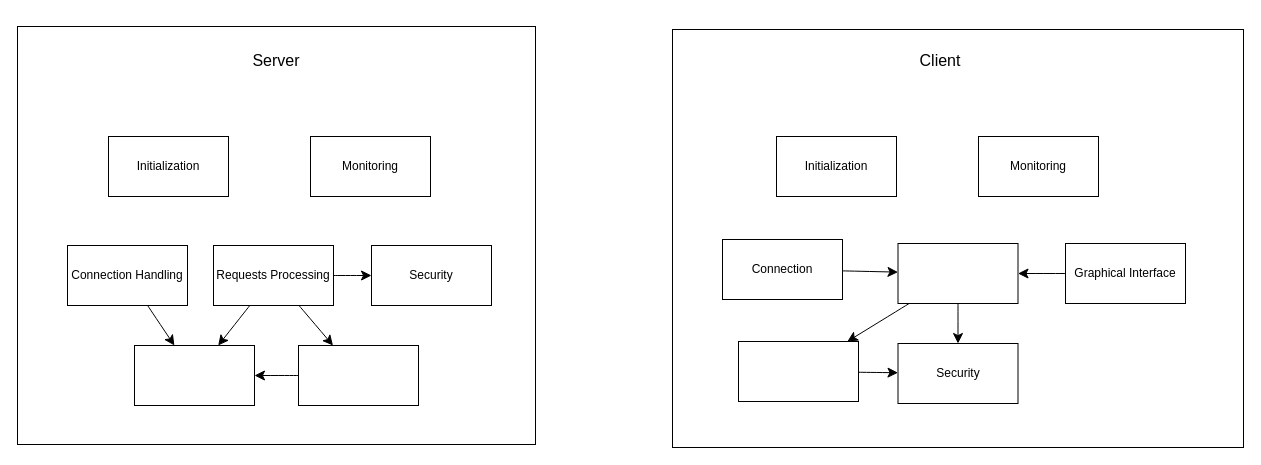
This 1261x465 diagram has some shape labels left out. The shapes that lost their labels are listed below. From the top down, each one's centre as x and y in pixels, then its label:
point (957, 273): Data Exchange
point (194, 375): Database Management
point (358, 375): Authentication
point (798, 371): Data Caching
